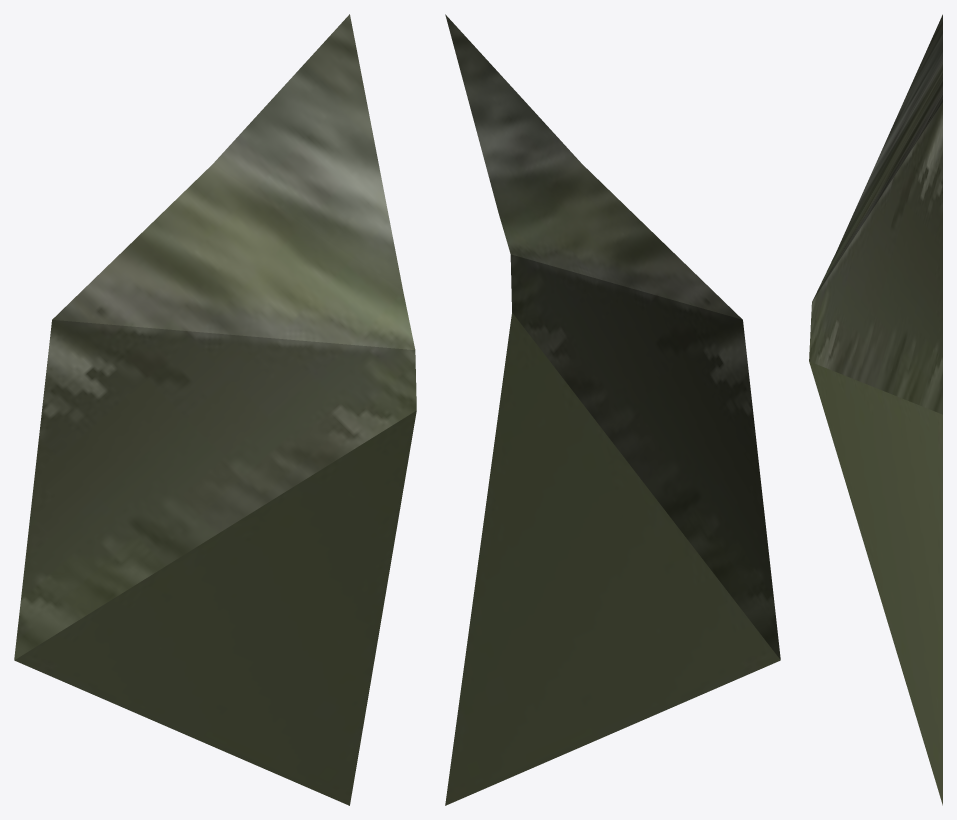
3 renders of one model, left to right at view 1: azimuth 30°, elevation 25°; view 2: azimuth 150°, elevation 25°; view 3: azimuth 270°, elevation 25°, orthographic.
Bounding box in the file's own units: 1.17 × 2.63 × 0.4035.
1 material, 1 textured.
